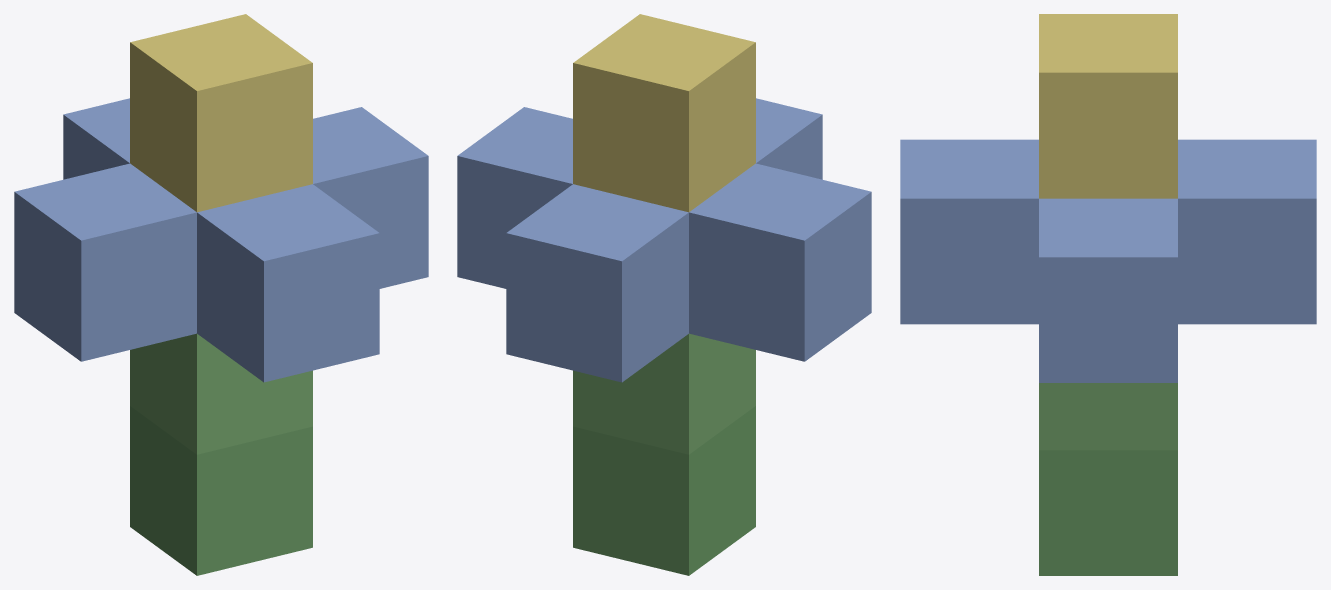
Rendered from fleur_2.glb.
3 views of the same model, side by side, from view 1: azimuth 30°, elevation 25°; view 2: azimuth 150°, elevation 25°; view 3: azimuth 270°, elevation 25° (orthographic). The views are drawn at different scales.
Parts seen in each view (by area): view 1: geometry_0; view 2: geometry_0; view 3: geometry_0.
Boxes of the visible parts, <box> form: geometry_0: <box>14,14,428,575</box>; geometry_0: <box>457,14,871,575</box>; geometry_0: <box>900,14,1316,575</box>.
Bounding box in the file's own units: 0.375 × 0.5 × 0.375.
